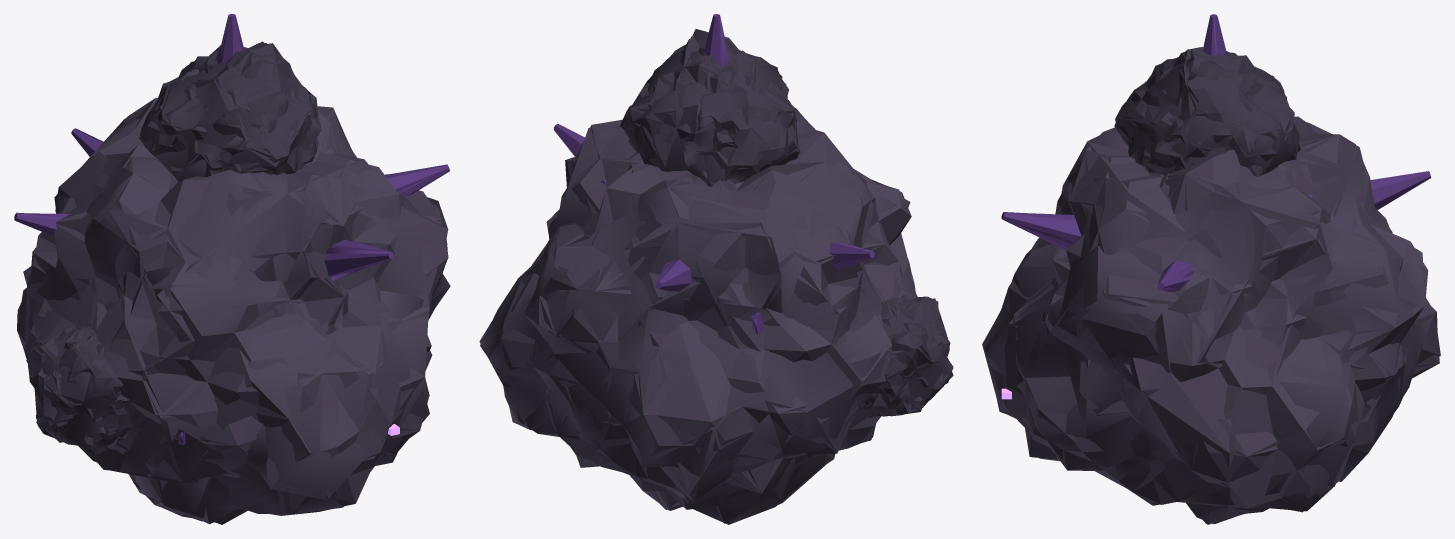
Rendered from render.glb.
3 views of the same model, side by side, from view 1: azimuth 30°, elevation 25°; view 2: azimuth 150°, elevation 25°; view 3: azimuth 270°, elevation 25° (orthographic).
Visible parts, largest first — view 1: LOD2_Stone, LOD0_Stone, LOD1_Stone, LOD0_Stone_deep, LOD2_Stone_deep, LOD1_Stone_deep, LOD0_CANOPY, LOD1_CANOPY; view 2: LOD2_Stone, LOD0_Stone, LOD1_Stone, LOD0_Stone_deep, LOD2_Stone_deep, LOD1_Stone_deep, LOD0_CANOPY; view 3: LOD2_Stone, LOD0_Stone, LOD1_Stone, LOD0_Stone_deep, LOD2_Stone_deep, LOD1_Stone_deep, LOD0_CANOPY, LOD1_CANOPY.
Boxes of the visible parts, box(x1,y1,x2,y2) form: LOD2_Stone: box(17, 119, 448, 524); LOD0_Stone: box(17, 98, 449, 518); LOD1_Stone: box(17, 98, 450, 524); LOD0_Stone_deep: box(26, 43, 321, 454); LOD2_Stone_deep: box(27, 43, 317, 448); LOD1_Stone_deep: box(27, 41, 320, 454); LOD0_CANOPY: box(14, 14, 449, 445); LOD1_CANOPY: box(14, 14, 448, 257); LOD2_Stone: box(479, 105, 915, 524); LOD0_Stone: box(480, 116, 917, 523); LOD1_Stone: box(480, 107, 915, 524); LOD0_Stone_deep: box(620, 35, 953, 416); LOD2_Stone_deep: box(623, 29, 953, 416); LOD1_Stone_deep: box(620, 38, 953, 416); LOD0_CANOPY: box(554, 14, 874, 333); LOD2_Stone: box(982, 122, 1440, 523); LOD0_Stone: box(987, 116, 1438, 524); LOD1_Stone: box(985, 116, 1439, 524); LOD0_Stone_deep: box(1115, 47, 1299, 176); LOD2_Stone_deep: box(1114, 50, 1300, 172); LOD1_Stone_deep: box(1116, 48, 1299, 175); LOD0_CANOPY: box(1001, 14, 1431, 291); LOD1_CANOPY: box(1002, 14, 1429, 291).
Size of what is drawn, in the model's own units: 10.53 by 12.3 by 10.23.
